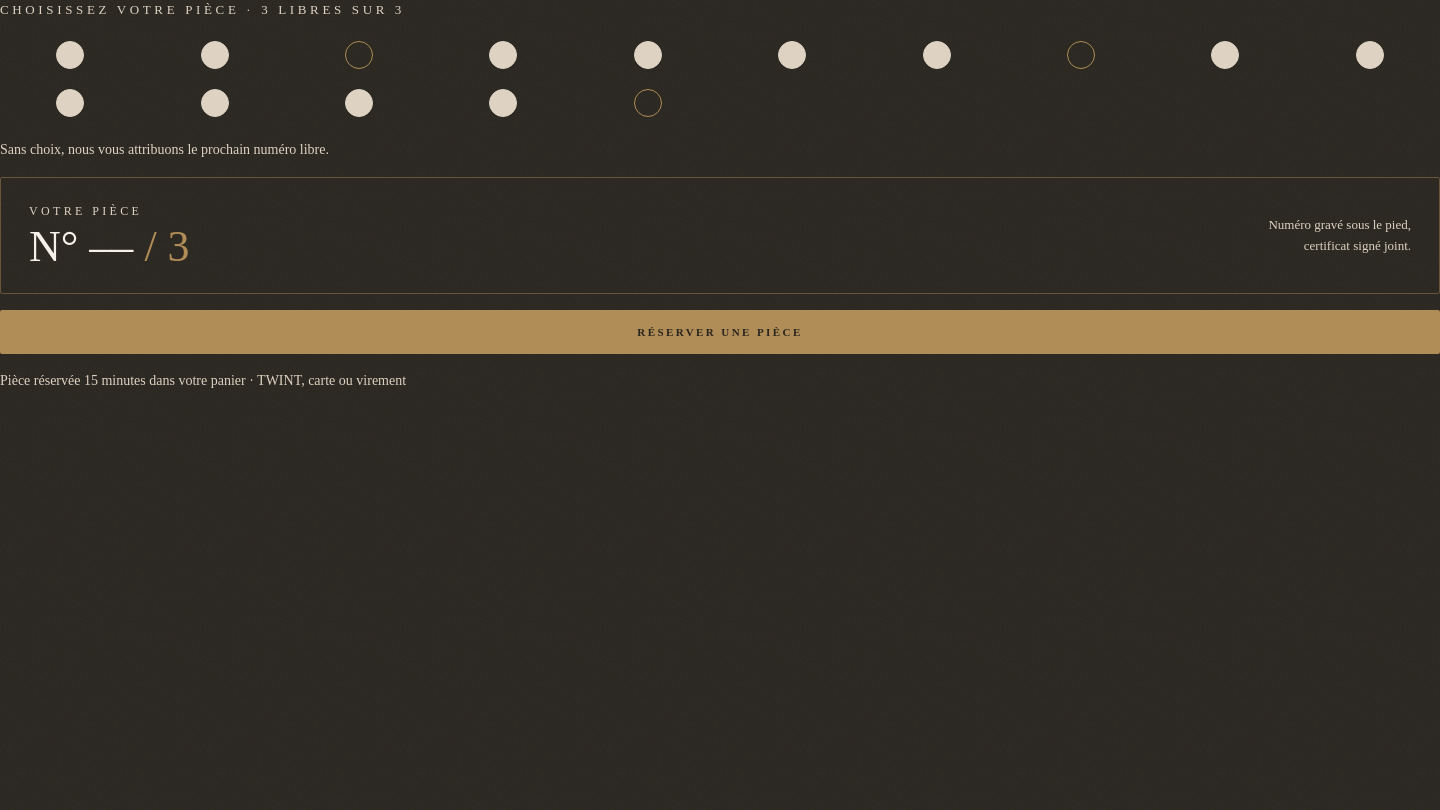
E5-02 · réservation temporaire › en cas de conflit, propose un autre numéro et le réserve
The image size is (1440, 810).
Click the 1st button named "N° 3" at (359,55), box [289,33,429,77]
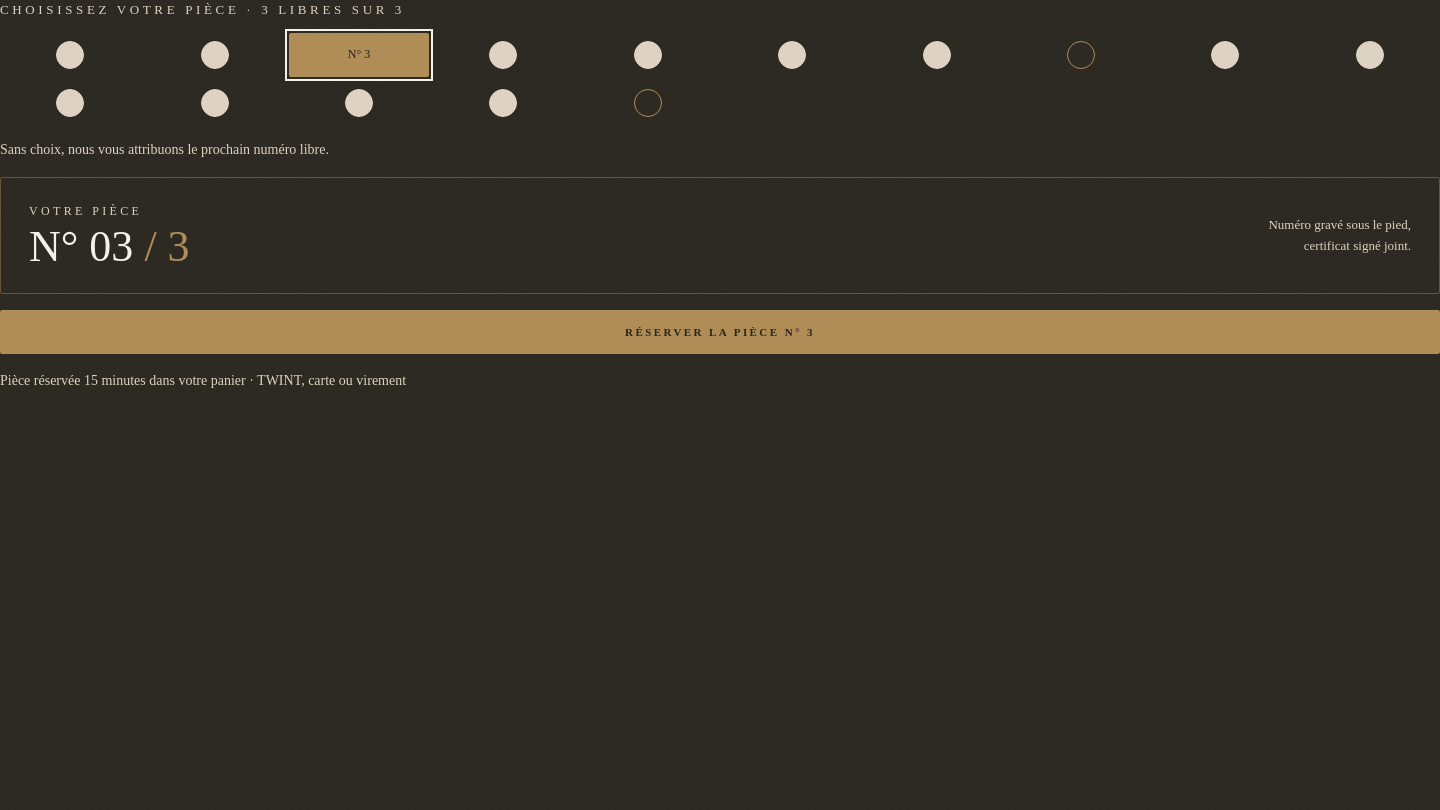
Click the button "Réserver la pièce N° 3" at (720,332), box [0,310,1439,354]
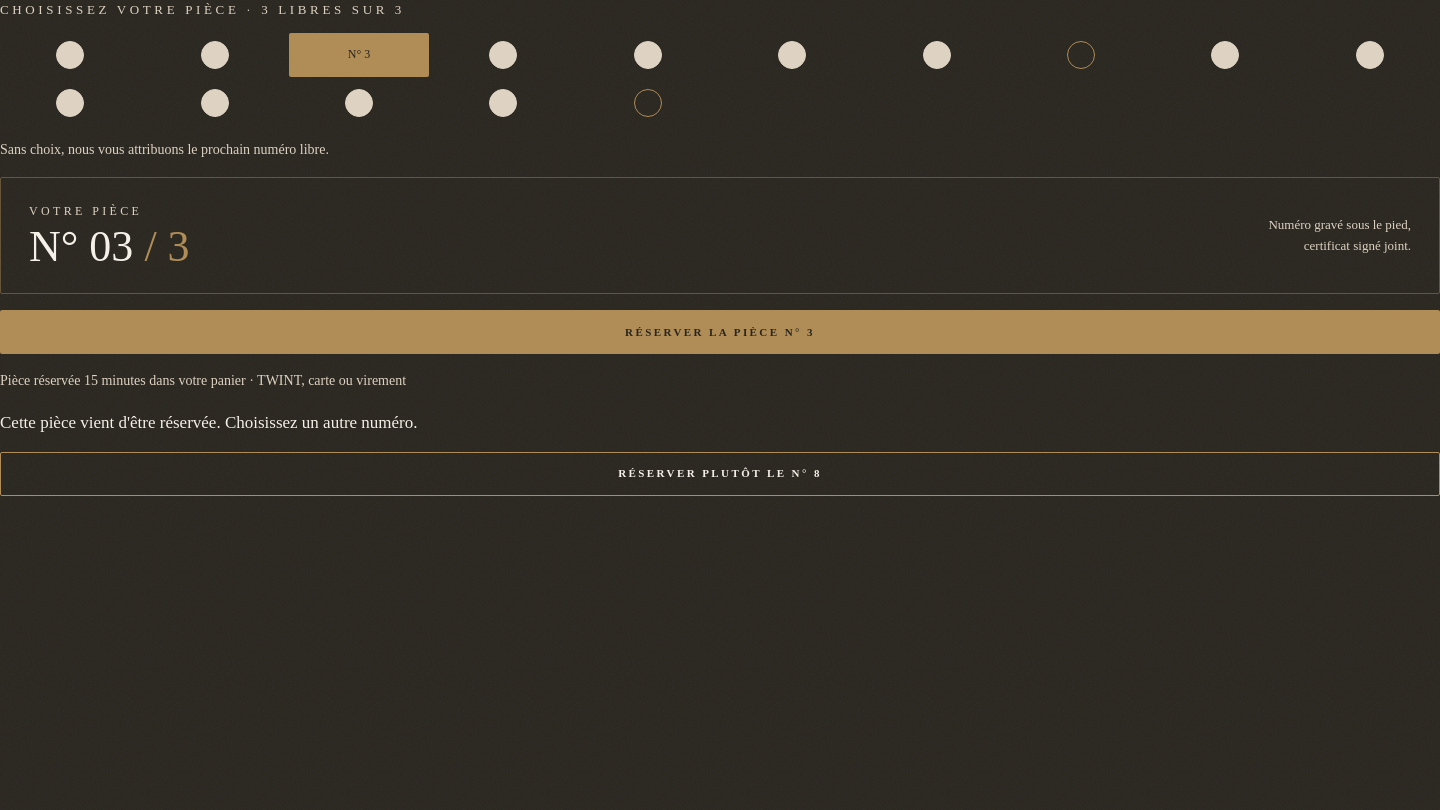
Click the button "Réserver plutôt le n° 8" at (720,474), box [0,452,1439,496]
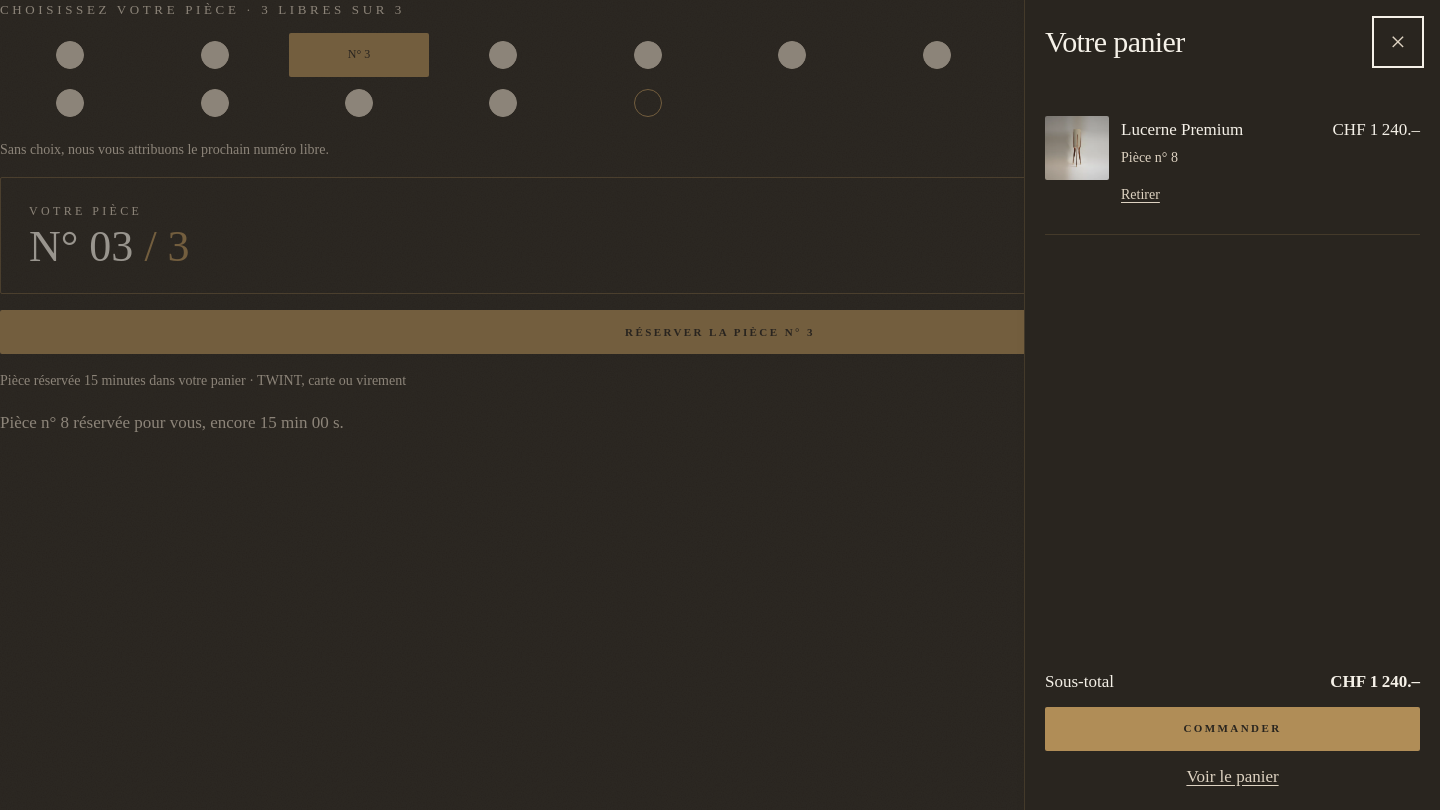
expect the text "Pièce n° 8 réservée pour vous, encore 15 min 00 s." is shown: met, box [0,413,344,432]
